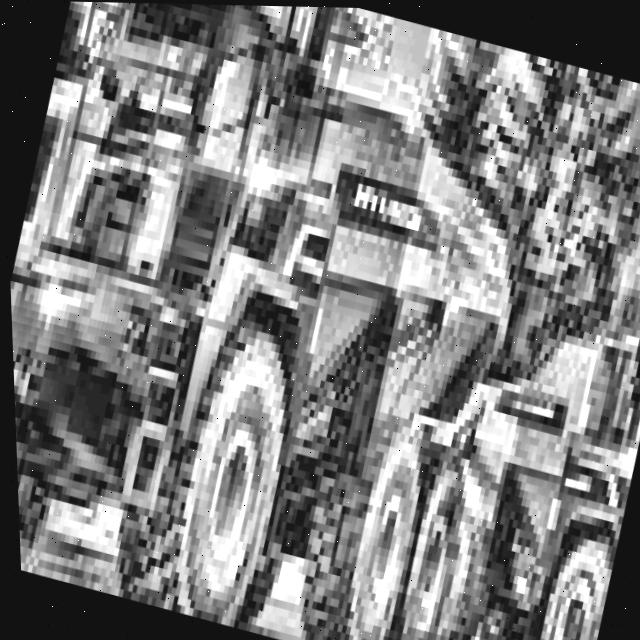dump_truck: (0, 0, 584, 640), (382, 268, 640, 640)
